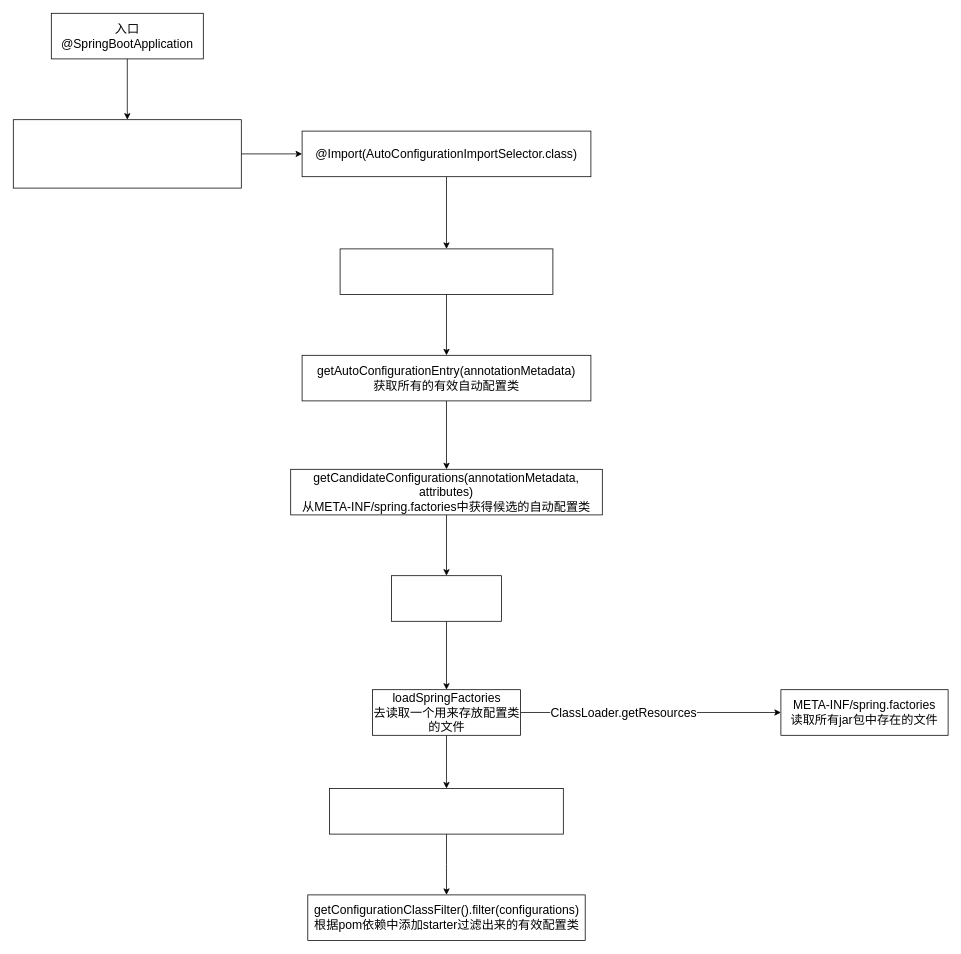
Image size: 961x954. Some labels were removed from this diagram. Here are the shapes that lost their labels. From the top down, the box of each, then its label:
(13, 119, 241, 188): @EnableAutoConfiguration 启动自动配置，会自动扫描所有自动配置类，扫描到并且满足条件才会生效
(339, 248, 553, 294): AutoConfigurationImportSelector
(391, 575, 502, 621): loadFacotryNames
(329, 788, 563, 834): getOrDefault 根据EnableAutoConfiguration对象
